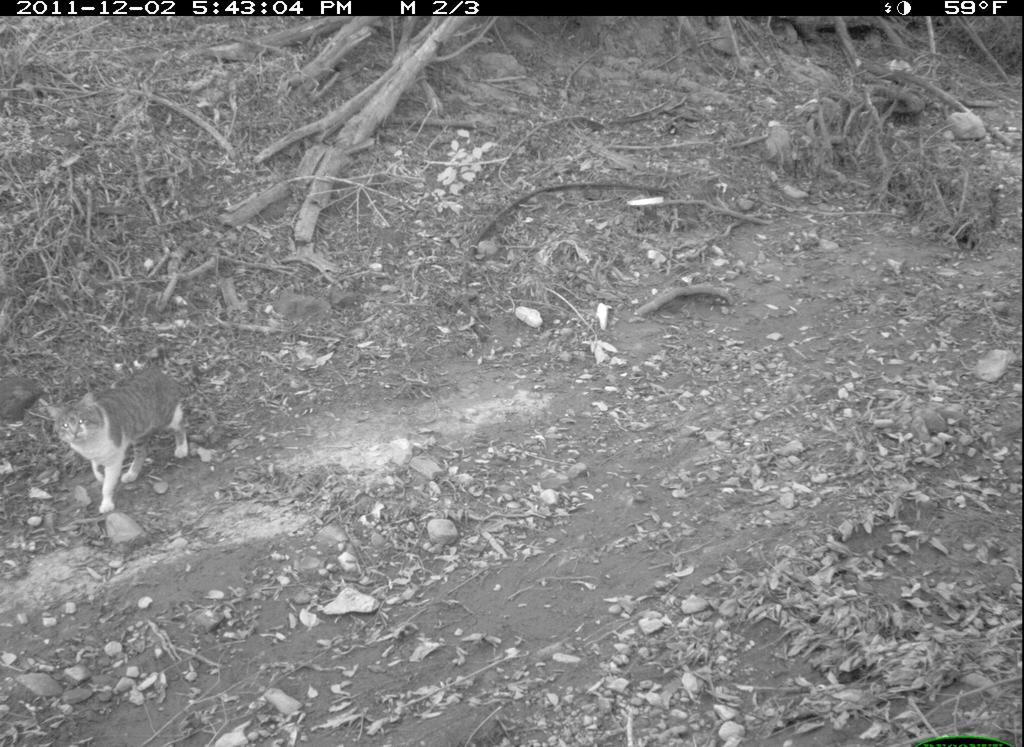cat: (25, 354, 219, 521)
